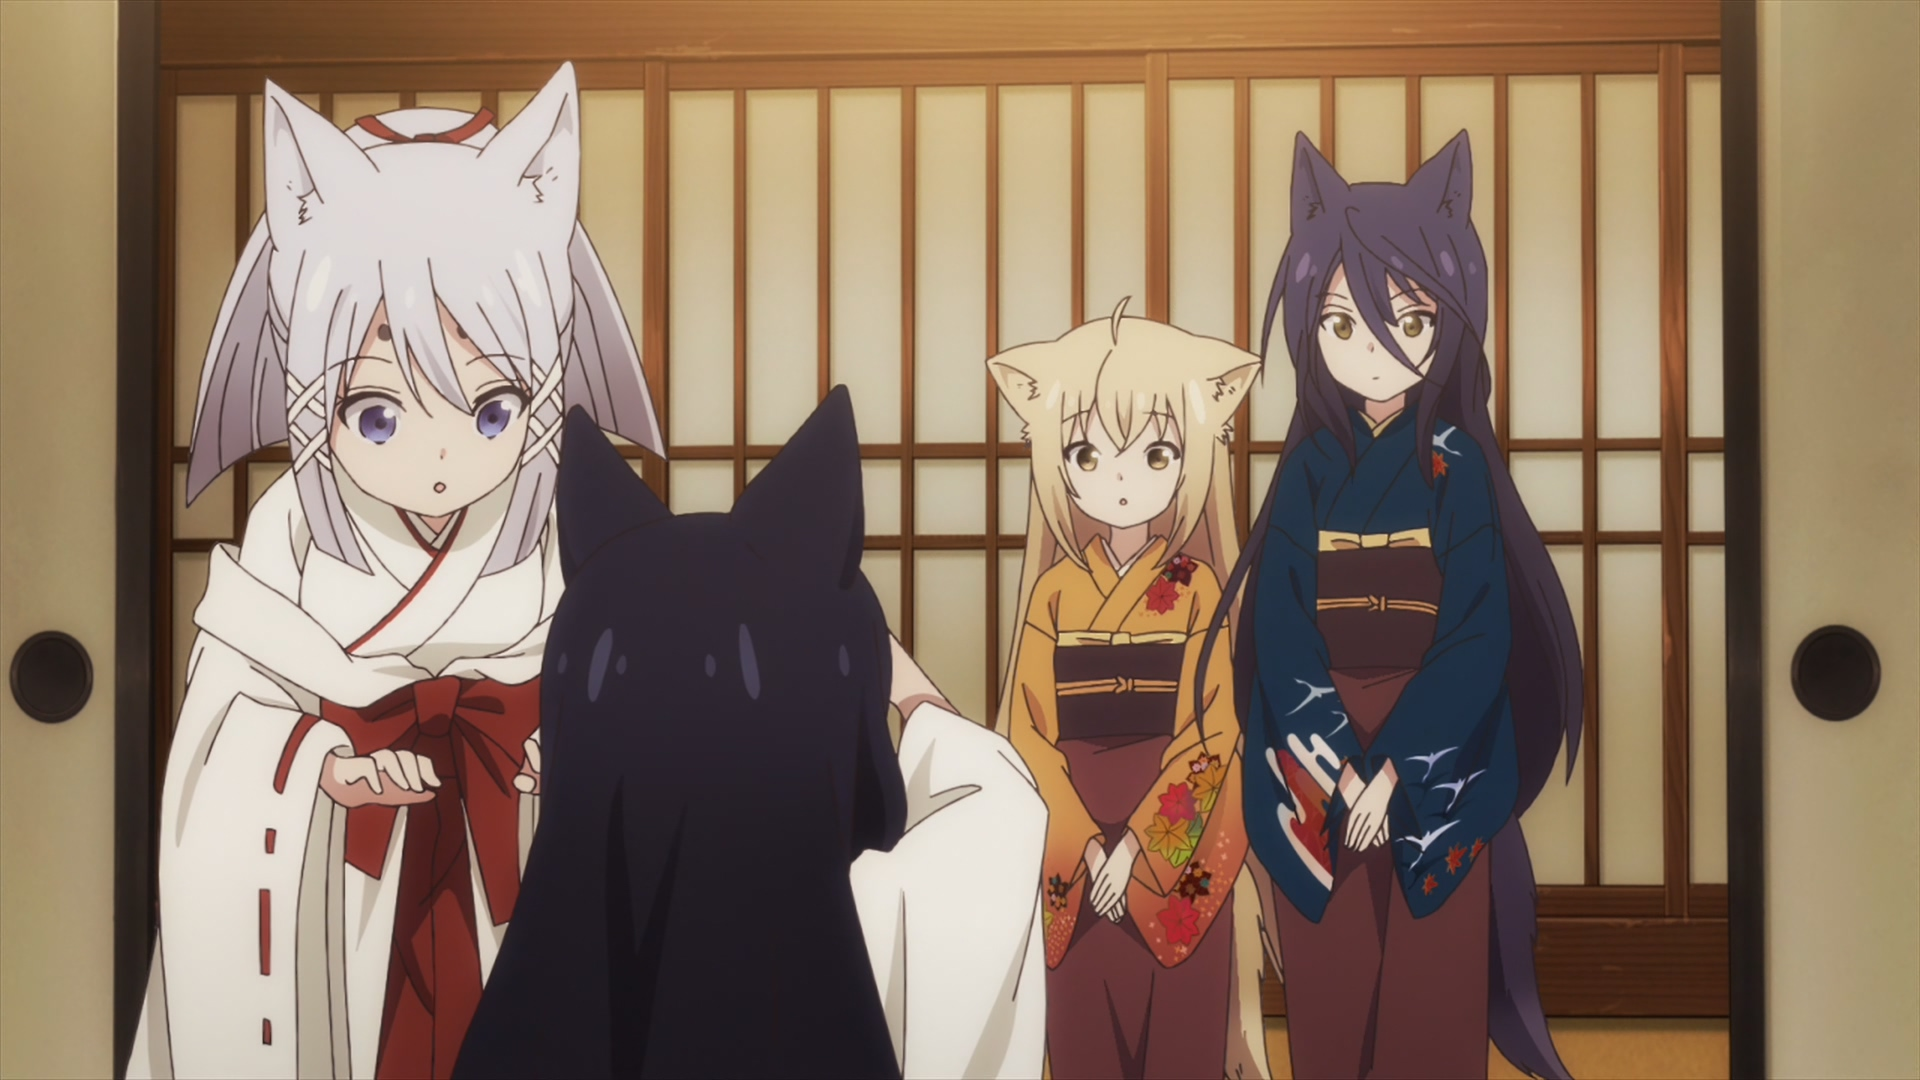柊: (125, 61, 669, 1080)
柚: (982, 295, 1282, 1080)
皋: (1196, 131, 1586, 1080)
菖: (456, 385, 1048, 1080)
